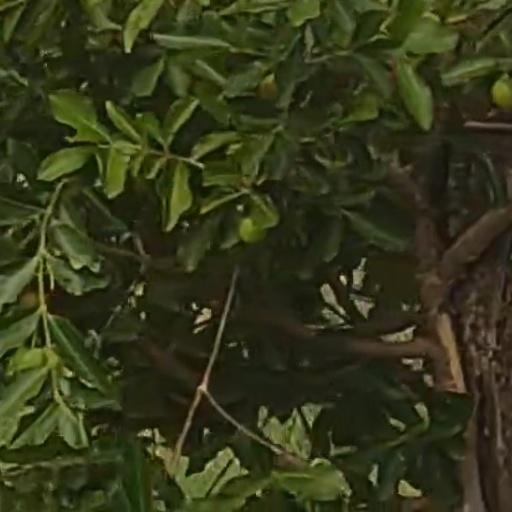acerola: (240, 218, 266, 245), (493, 76, 512, 109)
